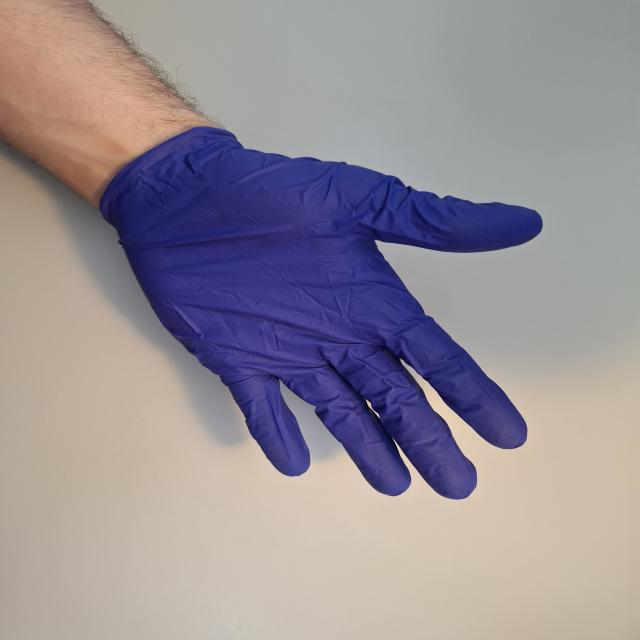glove_on: (98, 125, 546, 502)
